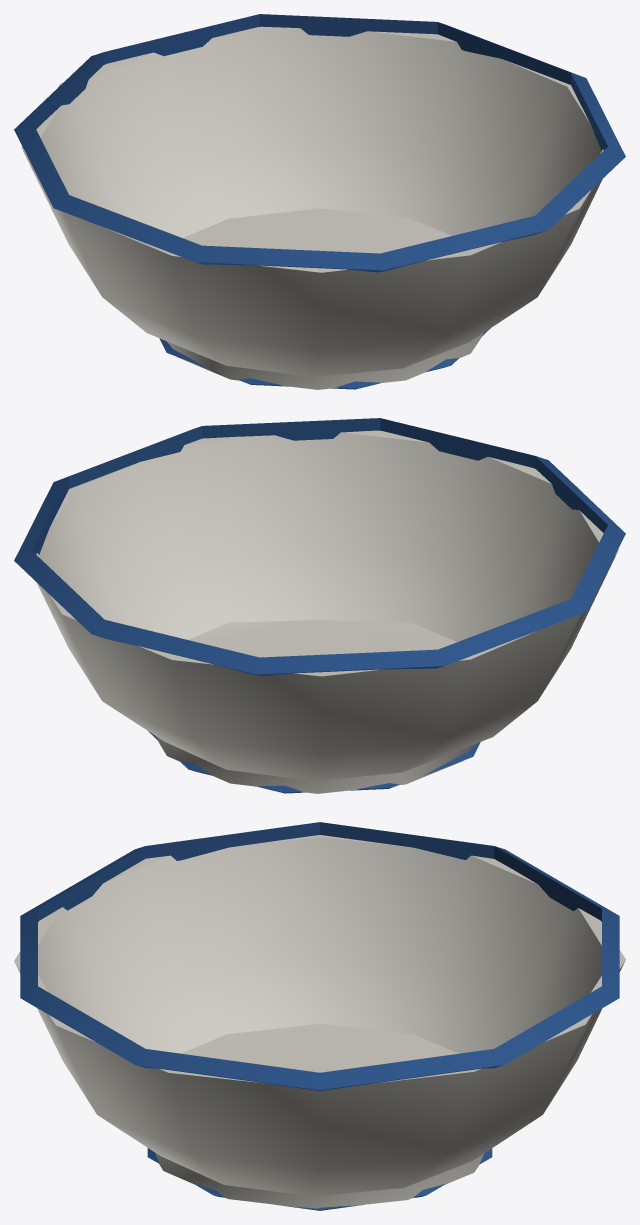
Rendered from chen_nuoc__can.glb.
3 renders of one model, top to bottom at view 1: azimuth 30°, elevation 25°; view 2: azimuth 150°, elevation 25°; view 3: azimuth 270°, elevation 25°, orthographic. The views are drawn at different scales.
Parts seen in each view (by area): view 1: chen_nuoc__can; view 2: chen_nuoc__can; view 3: chen_nuoc__can.
Part boxes in pixels (left/top/right/bottom): chen_nuoc__can: left=14, top=14, right=625, bottom=389; chen_nuoc__can: left=14, top=418, right=625, bottom=793; chen_nuoc__can: left=14, top=822, right=625, bottom=1210.
Bounding box in the file's own units: 0.2154 × 0.0726 × 0.2092.
